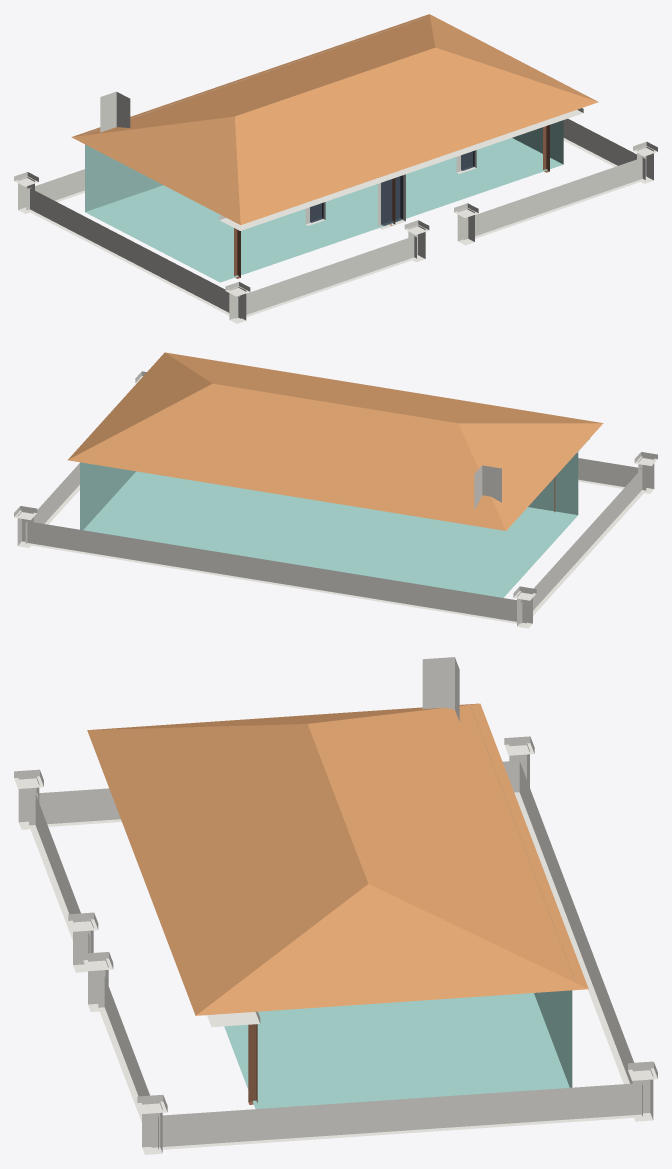
File: cunucu_piedra.glb
3 views of the same model, one above another, from view 1: azimuth 30°, elevation 25°; view 2: azimuth 150°, elevation 25°; view 3: azimuth 270°, elevation 25° (orthographic). The views are drawn at different scales.
Parts seen in each view (by area): view 1: cunucu_piedra_lod0; view 2: cunucu_piedra_lod0; view 3: cunucu_piedra_lod0.
Part boxes in pixels (box(x1,y1,x2,y2)): cunucu_piedra_lod0: box(14, 14, 657, 323); cunucu_piedra_lod0: box(14, 352, 657, 628); cunucu_piedra_lod0: box(14, 657, 657, 1154).
Size of what is drawn, in the model's own units: 21.4 by 4.65 by 15.7.
